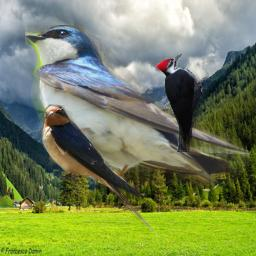Swallow: (25, 25, 251, 193), (41, 104, 158, 236)
Woodpecker: (154, 53, 209, 152)
